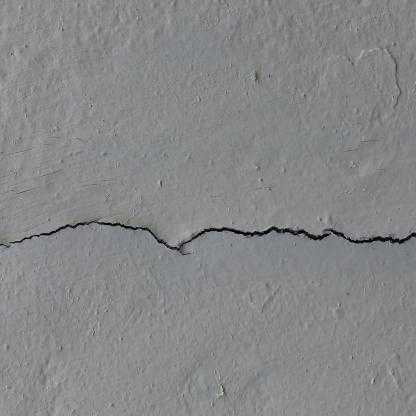crack: (0, 221, 416, 255)
